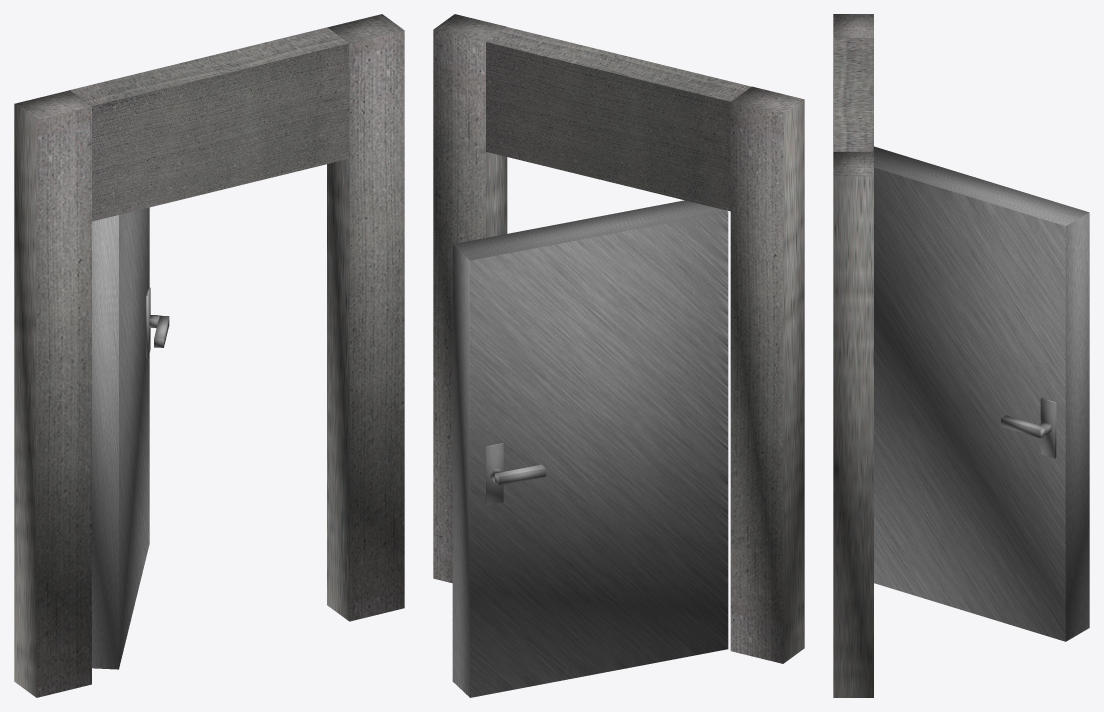
Rendered from metaldoor_000003.obj.
3 renders of one model, left to right at view 1: azimuth 30°, elevation 25°; view 2: azimuth 150°, elevation 25°; view 3: azimuth 270°, elevation 25°, orthographic. The views are drawn at different scales.
Visible parts, largest first — view 1: Cube.006_Cube.007, Cube.004_Cube.005; view 2: Cube.004_Cube.005, Cube.006_Cube.007; view 3: Cube.004_Cube.005, Cube.006_Cube.007.
Part boxes in pixels (x1,y1,x2,y2): Cube.006_Cube.007: [14, 14, 404, 697]; Cube.004_Cube.005: [92, 207, 169, 669]; Cube.004_Cube.005: [452, 200, 728, 697]; Cube.006_Cube.007: [433, 14, 804, 663]; Cube.004_Cube.005: [873, 146, 1089, 641]; Cube.006_Cube.007: [833, 14, 873, 697].
Bounding box in the file's own units: 2 × 3 × 1.33.
